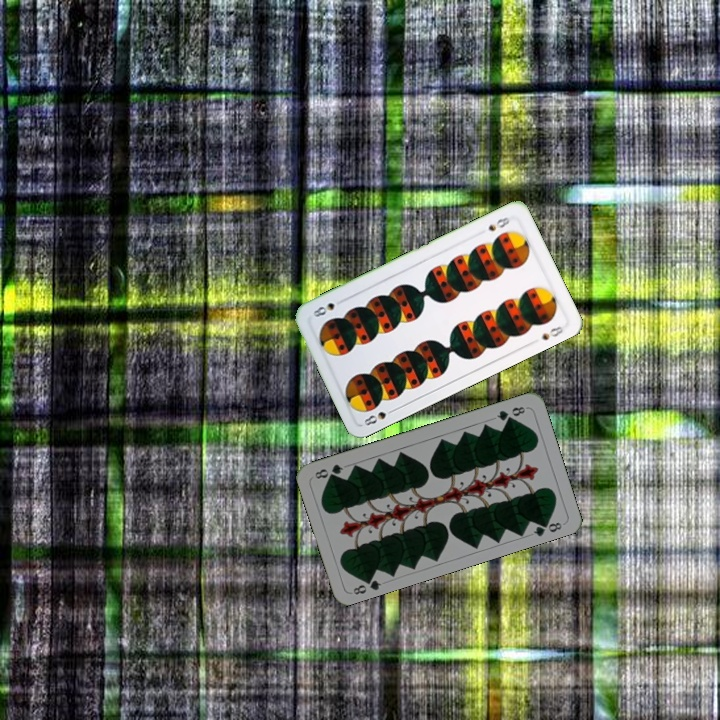G8: (349, 572, 384, 597), (493, 402, 528, 423)
S8: (360, 404, 398, 428), (484, 213, 512, 234)
